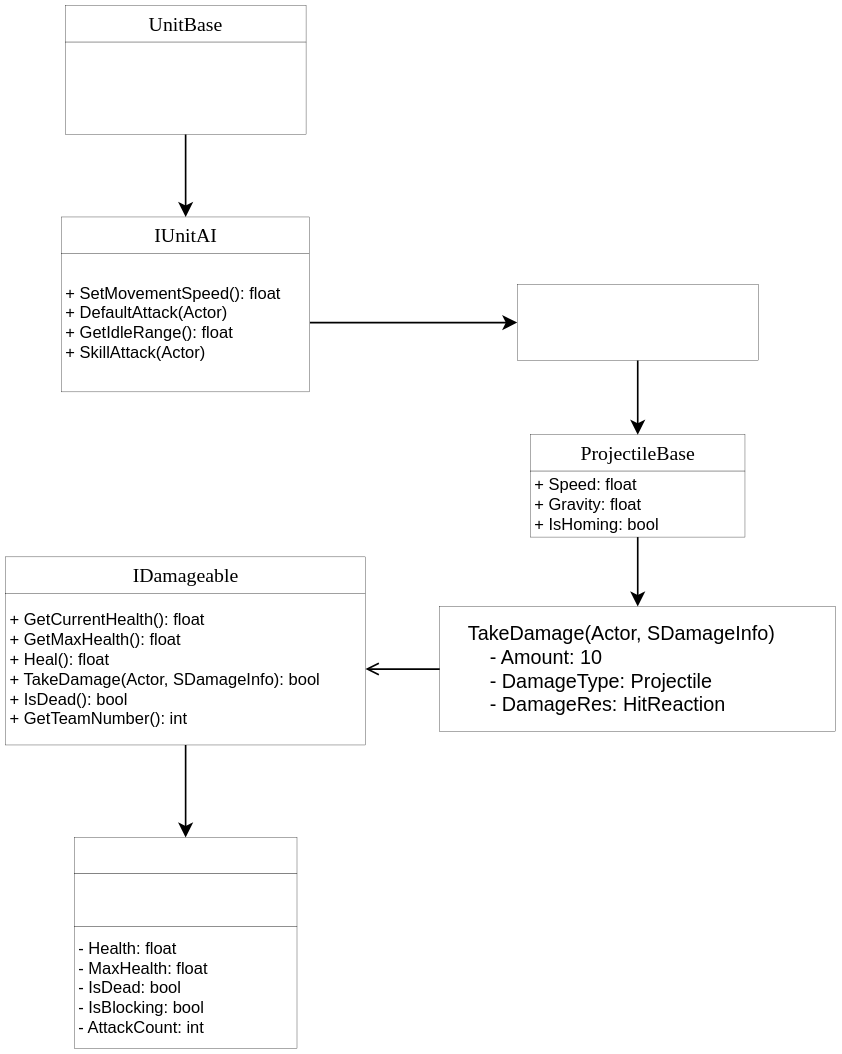
Image size: 842x1054. Some labels were removed from this diagram. The centre of each missing label's shape, as x and y in pixels:
"+ Take Damage(): bool + Heal(): float" goes at point (185, 899).
"- BehaviorTree: BehaviorTree - AIController - DamageSystem" goes at point (185, 88).
"DamageSystem" goes at point (185, 855).
"DefaultAttack(Actor)" goes at point (637, 322).
